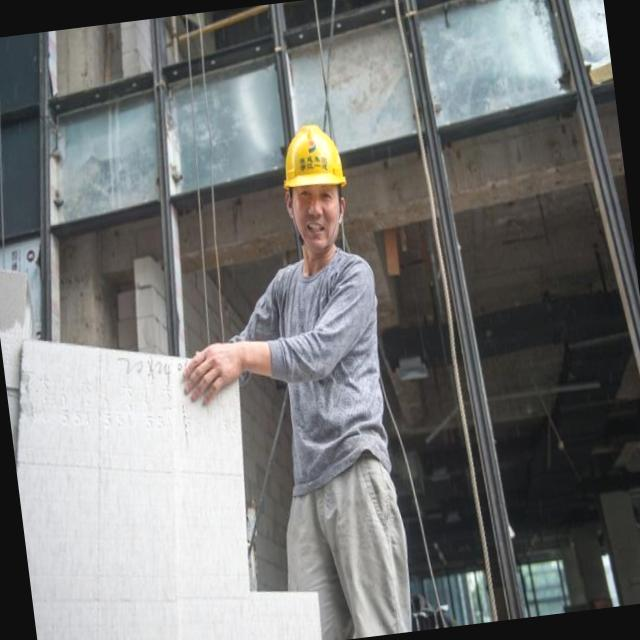helmet: (275, 120, 346, 196)
no-vest: (264, 240, 400, 514)
